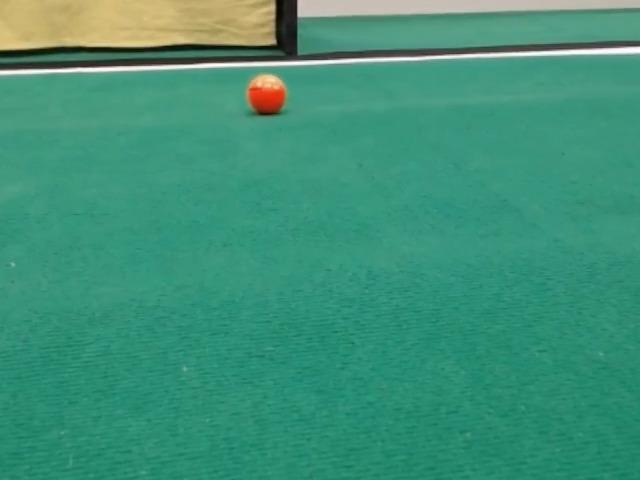Ball: (247, 74, 286, 114)
